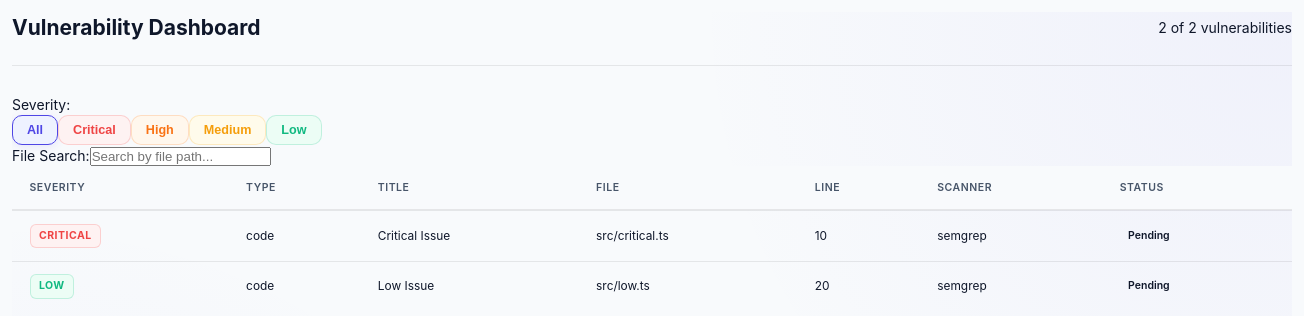
VulnerabilityDashboard Component › Unit Tests › should filter vulnerabilities by severity
Expected: the text "Critical Issue" is shown, [360,210,579,261]
// Click critical filter
Click the button "Critical" at [94, 130], box [58,114,131,144]
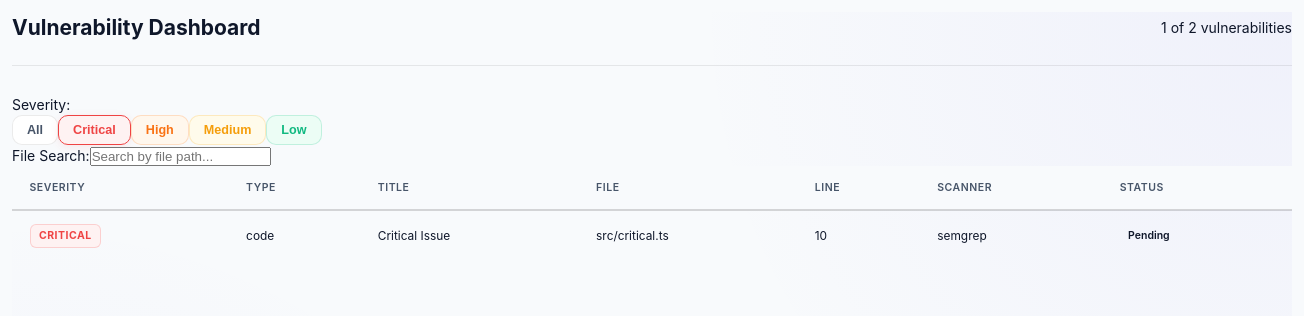
Expected: the text "Critical Issue" is shown, [360,210,579,260]
Expected: the button "Low Issue" is gone
